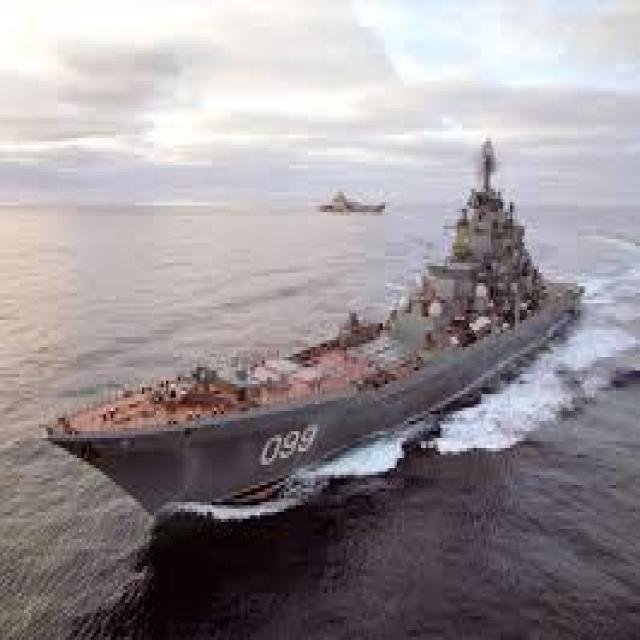island: (304, 173, 392, 227)
navalvessels: (33, 138, 608, 556)
